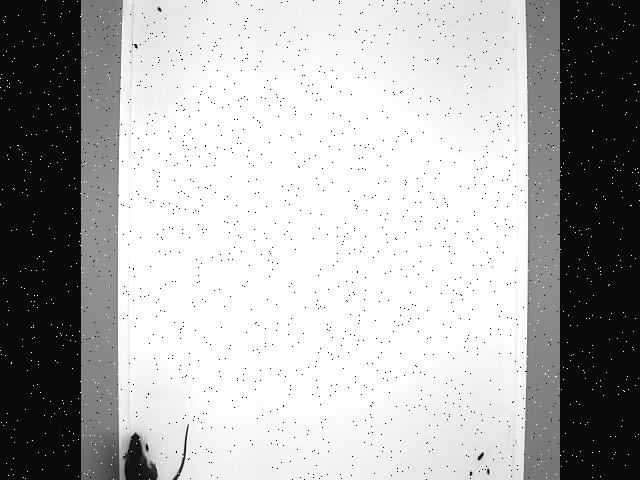Tikus: (121, 423, 187, 480)
